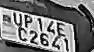1: (61, 37, 71, 52), (35, 17, 44, 32)
2: (28, 30, 39, 45)
4: (46, 20, 57, 36), (52, 35, 61, 51)
6: (38, 30, 50, 47)
C: (16, 28, 27, 42)
E: (56, 22, 67, 37)
P: (22, 14, 33, 29)
U: (11, 13, 25, 27)
